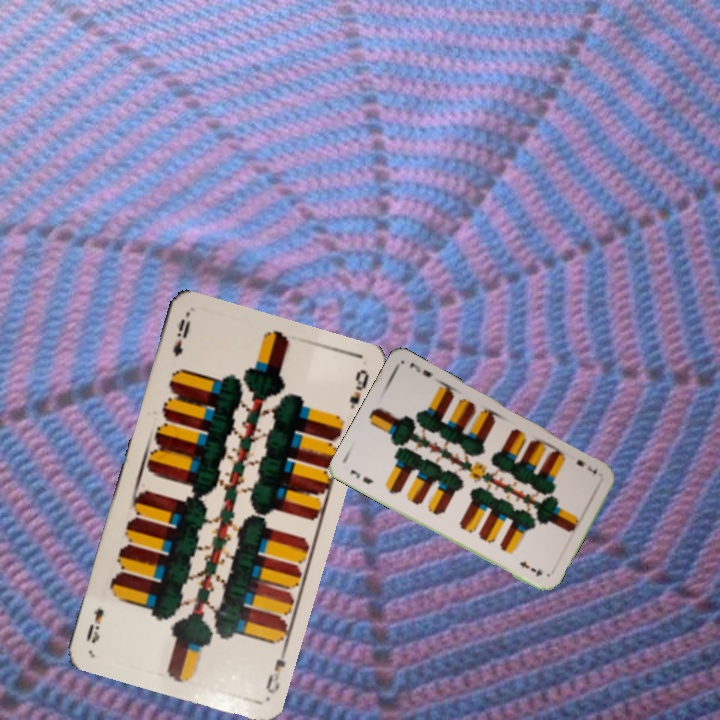E7: (346, 466, 376, 486), (572, 456, 600, 476)
E9: (262, 643, 290, 697), (168, 312, 193, 360)
